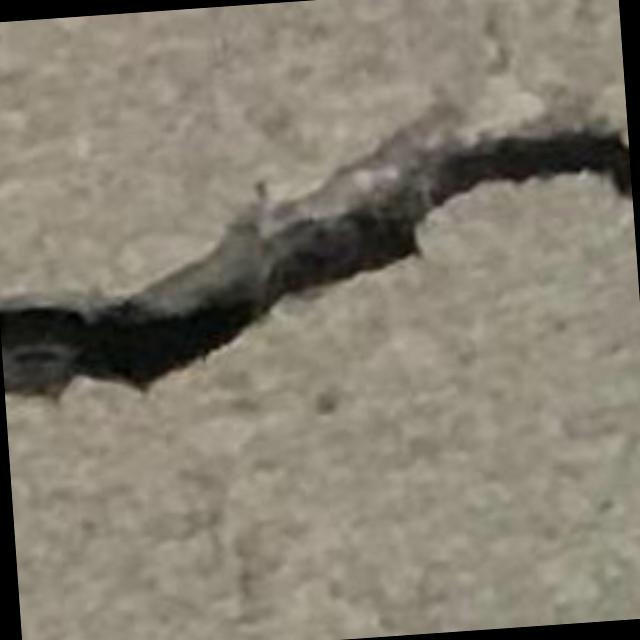crack: (0, 128, 632, 397)
